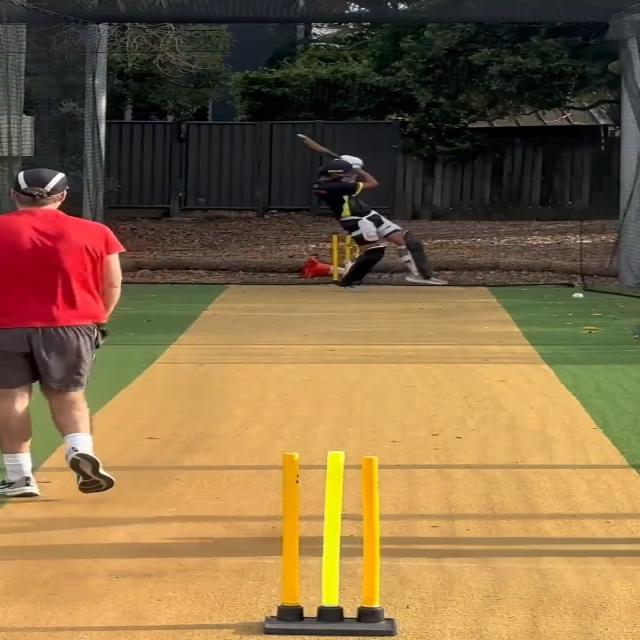ball: (572, 293, 584, 299)
stump: (260, 447, 398, 635)
